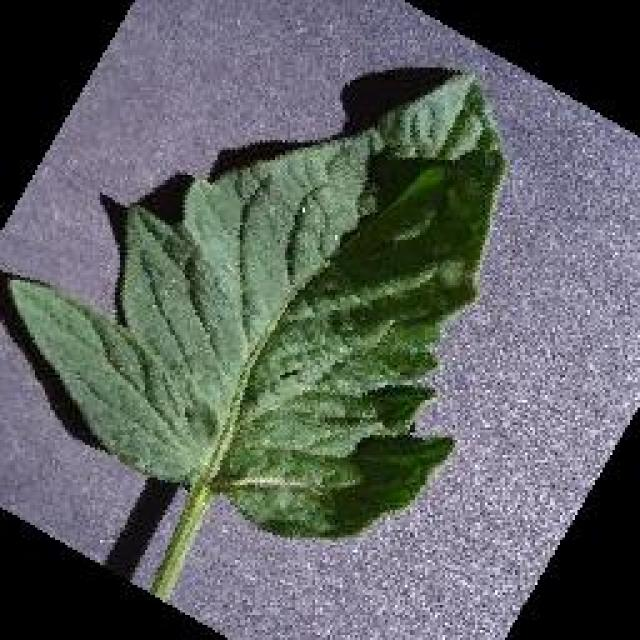Tomato___healthy: (5, 71, 512, 607)
